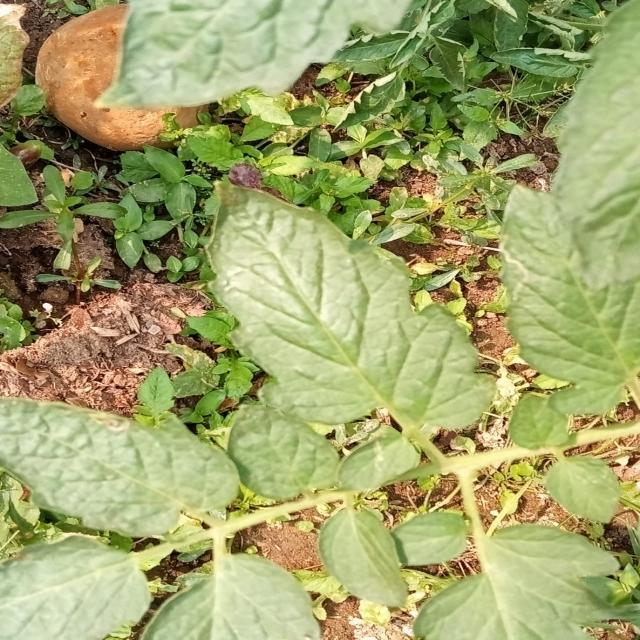Healthy: (137, 163, 529, 498), (311, 500, 410, 621)
